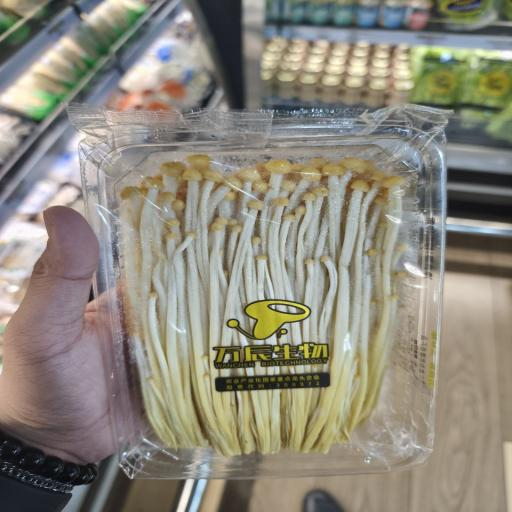Enoki Mushroom: (111, 151, 410, 460)
